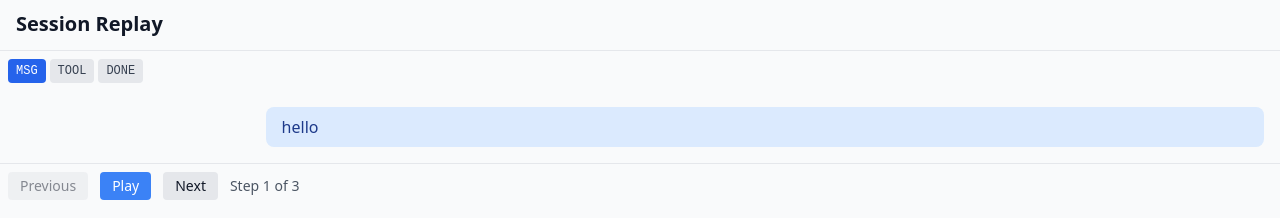
Test: ReplayPage › clicking Previous goes back
Expected: the text "Step 1 of 3" is shown, [230,176,299,196]
Click the button "Next": (191, 186) [163,172,218,200]
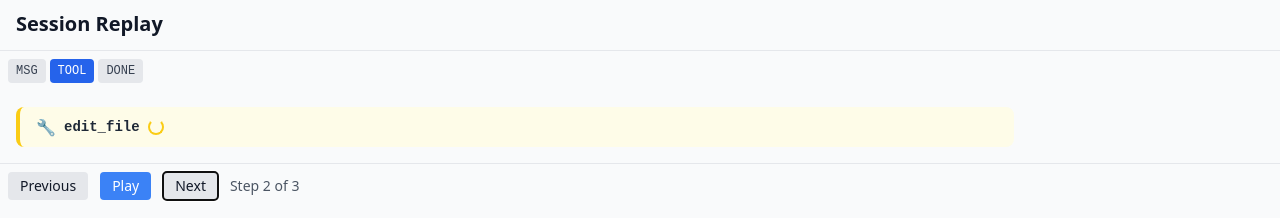
Now the text "Step 2 of 3" is shown, box [230,176,299,196]
Click the button "Previous": (48, 186) [8,172,88,200]
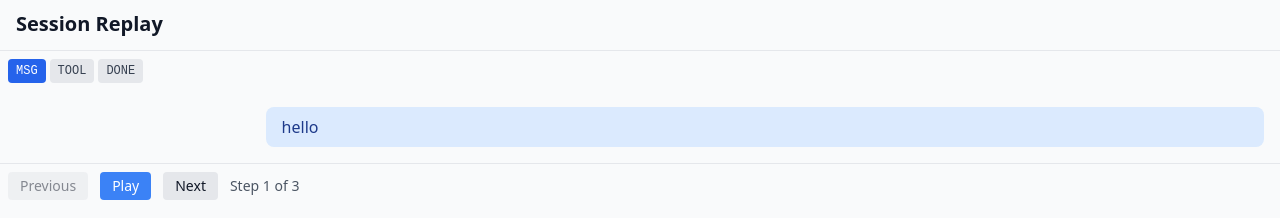
Now the text "Step 1 of 3" is shown, box [230,176,299,196]
